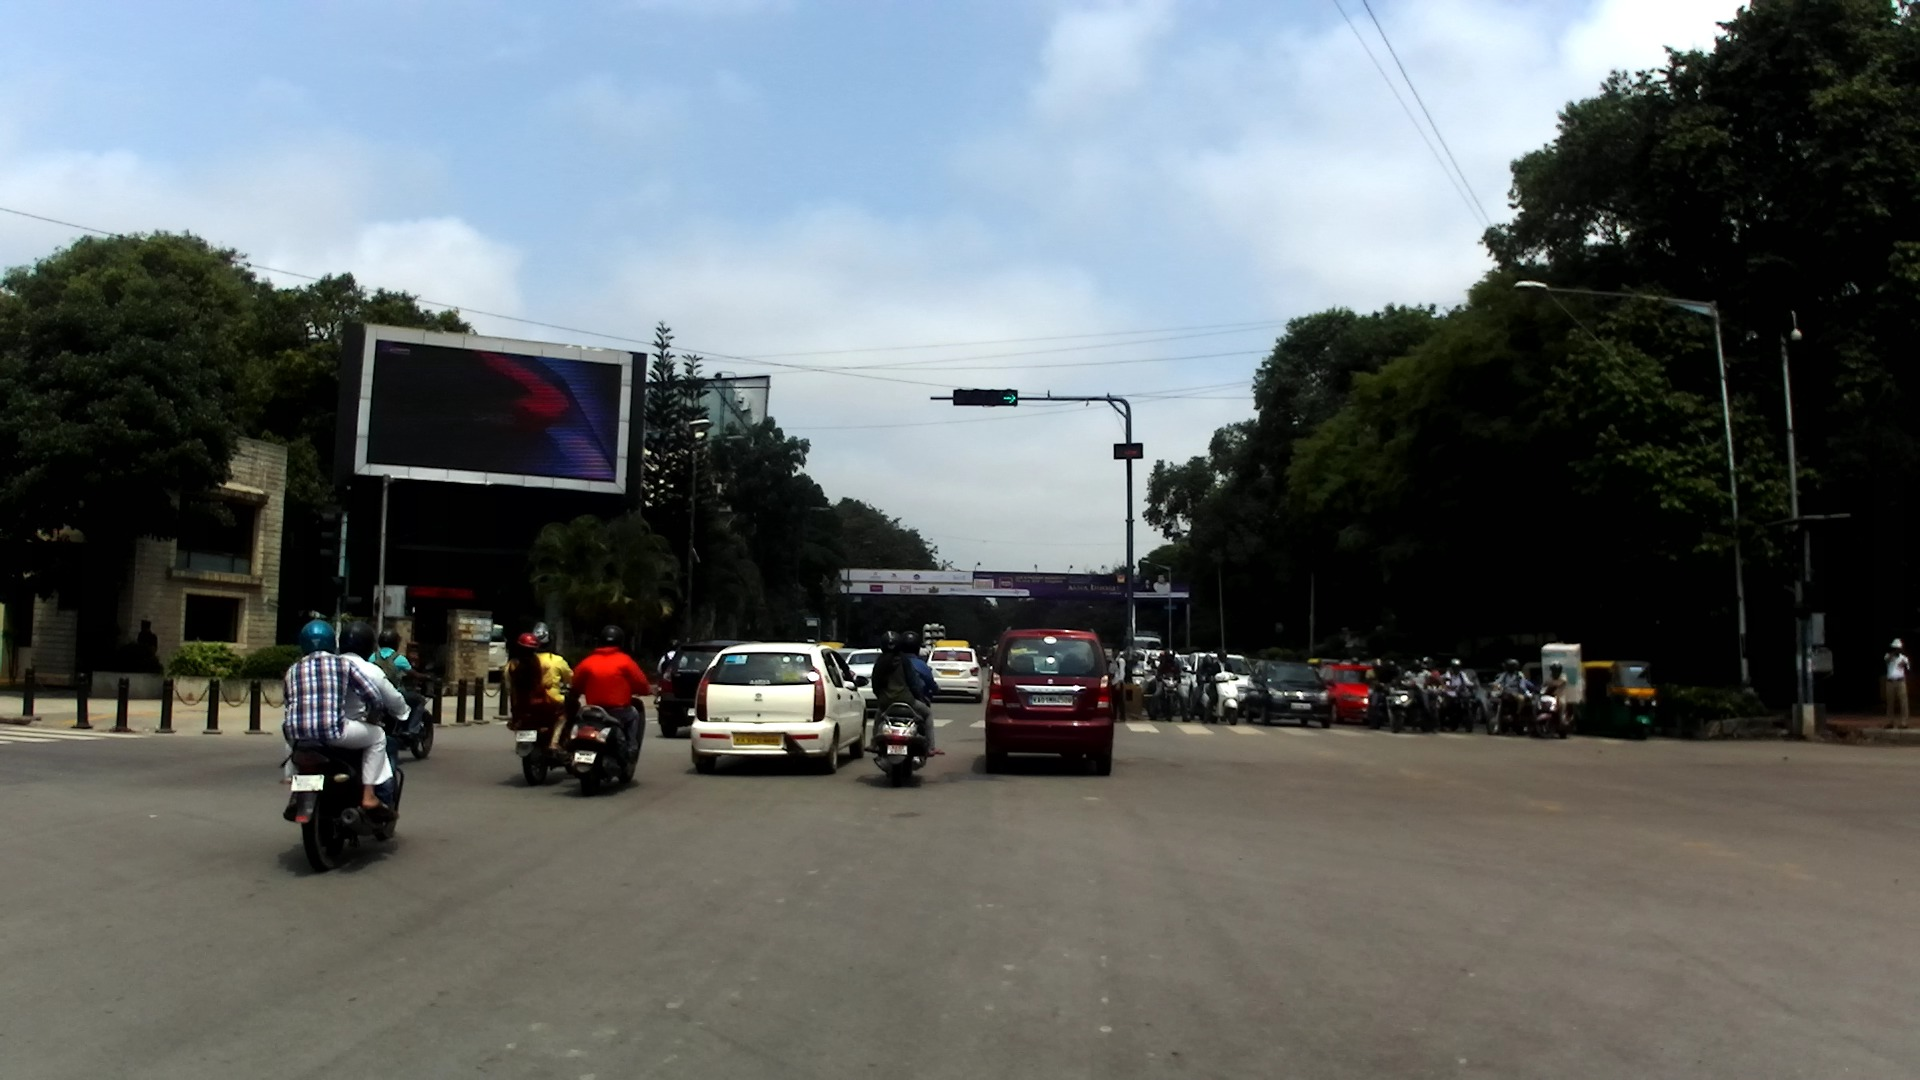autorickshaw: (1582, 660, 1659, 740), (816, 641, 847, 656)
car: (690, 642, 868, 774), (982, 625, 1116, 775), (657, 639, 763, 740), (1247, 659, 1335, 727), (1116, 649, 1196, 708), (1186, 651, 1262, 714), (1318, 663, 1382, 724), (844, 649, 899, 709), (927, 647, 985, 703), (1457, 668, 1511, 723), (488, 623, 509, 682), (833, 647, 860, 667)
caravan: (935, 638, 970, 662), (975, 646, 996, 666)
motorcycle: (283, 695, 411, 873), (568, 686, 651, 798), (514, 676, 590, 787), (872, 680, 941, 786), (393, 669, 442, 759), (1487, 677, 1539, 737), (1389, 674, 1439, 734), (1364, 679, 1412, 733), (1196, 670, 1242, 726), (1533, 681, 1579, 738), (1149, 665, 1189, 722), (1438, 680, 1477, 734), (654, 681, 669, 710)
person: (1882, 638, 1911, 728), (1107, 646, 1132, 721), (131, 616, 158, 671)
rider: (281, 620, 397, 820), (332, 621, 411, 820), (570, 626, 650, 760), (864, 631, 944, 755), (502, 632, 568, 753), (530, 623, 581, 750), (373, 630, 430, 738), (899, 631, 936, 726), (1148, 648, 1193, 724), (1198, 646, 1236, 726), (1491, 658, 1529, 735), (1183, 653, 1218, 724), (1502, 663, 1537, 731), (1542, 662, 1571, 739), (1443, 657, 1476, 722), (1403, 658, 1433, 724), (1421, 655, 1444, 722), (1363, 657, 1386, 718), (1378, 658, 1400, 716), (656, 640, 684, 682), (1433, 660, 1454, 710), (919, 643, 930, 665), (1350, 656, 1360, 665)
traffic light: (953, 389, 1018, 406), (1113, 443, 1143, 458)
truck: (923, 623, 946, 656)
vehicle fallback: (1132, 628, 1163, 670), (1102, 645, 1119, 675), (1308, 656, 1339, 670), (1176, 654, 1198, 672)
